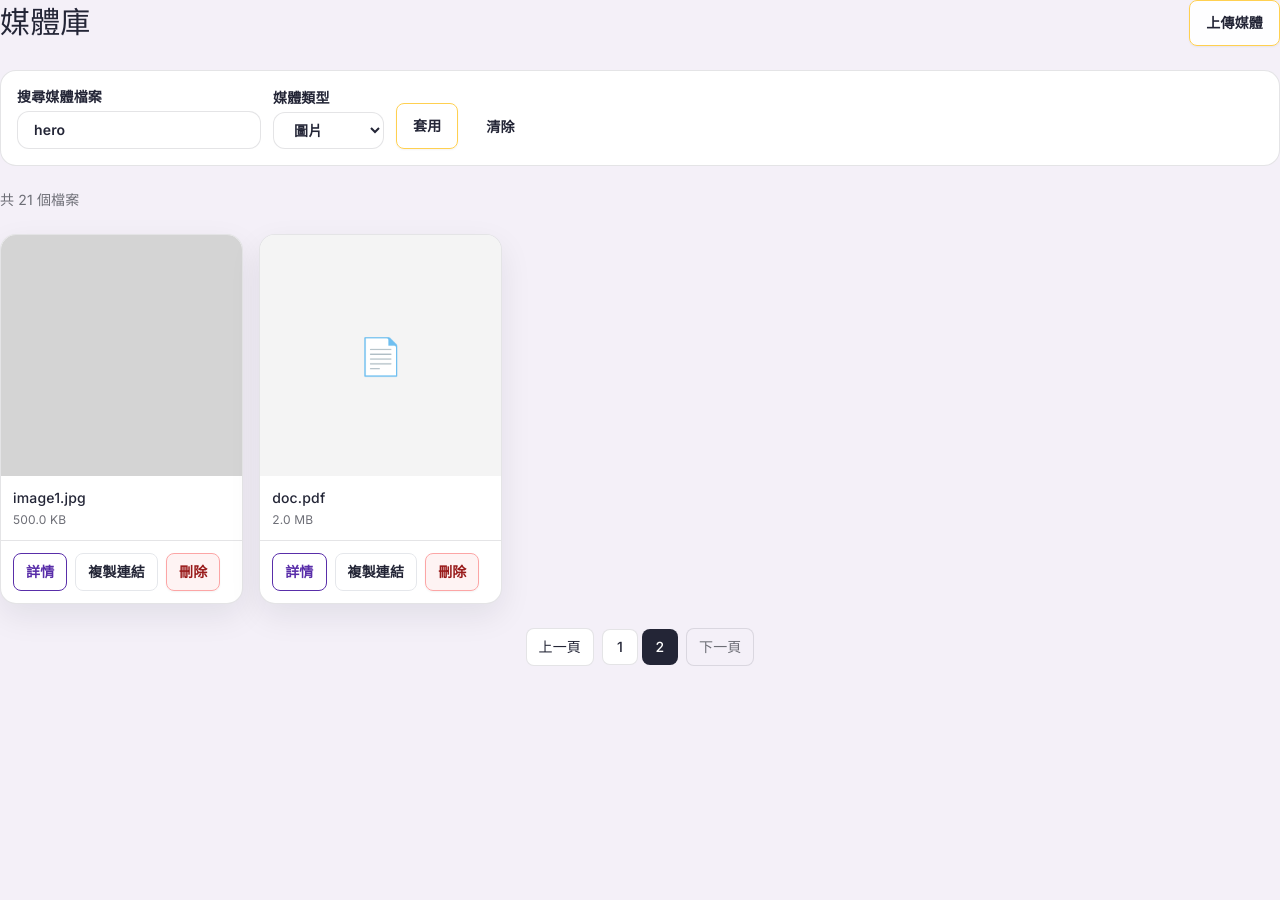
Test: MediaLibraryClient › 刪除失敗時關閉確認對話框並顯示錯誤，不遮住回饋訊息
Click the button "刪除" below "500.0 KB" at {"x": 193, "y": 572}, box [166,553,220,591]
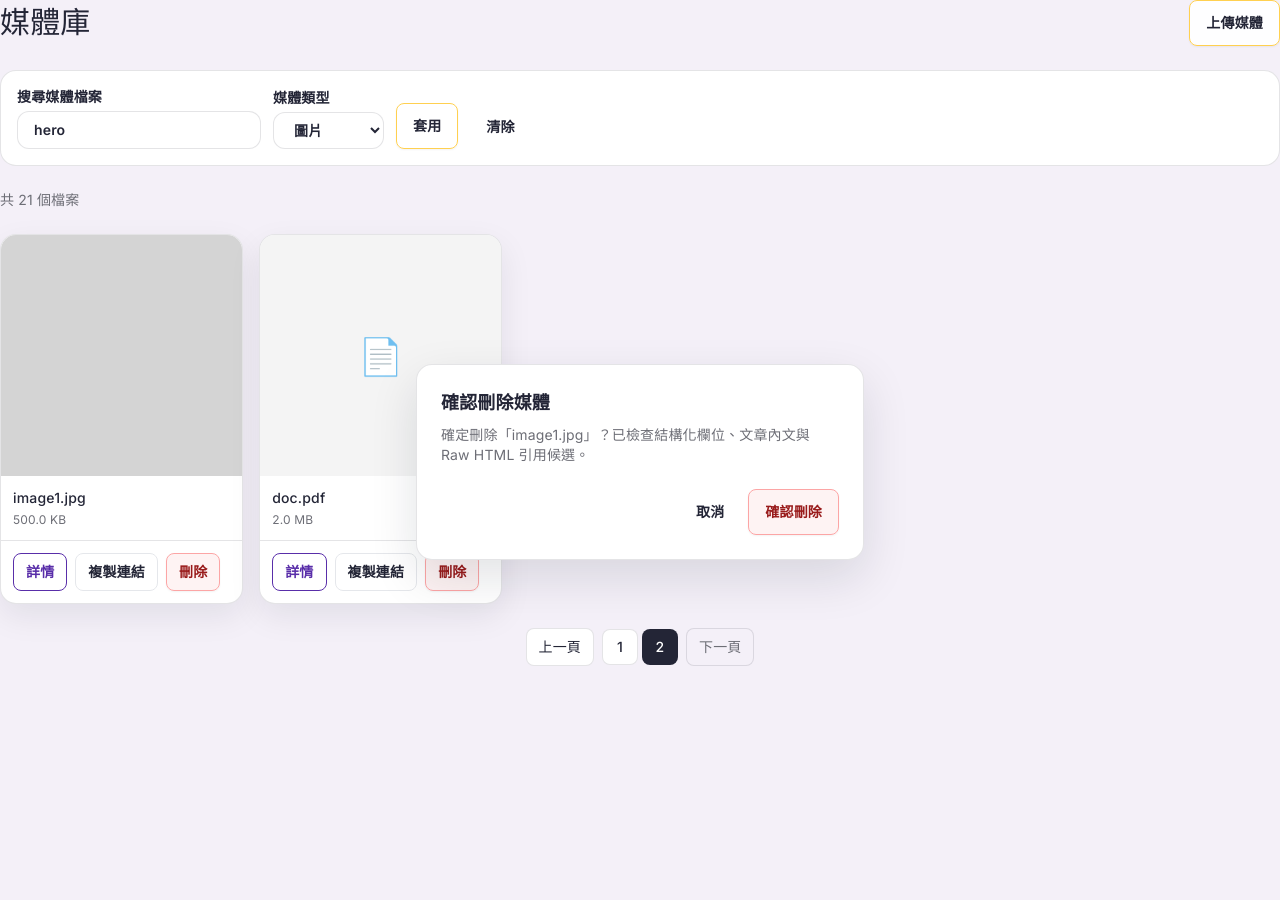
Click the button "確認刪除" at {"x": 794, "y": 512}, box [748,489,839,535]
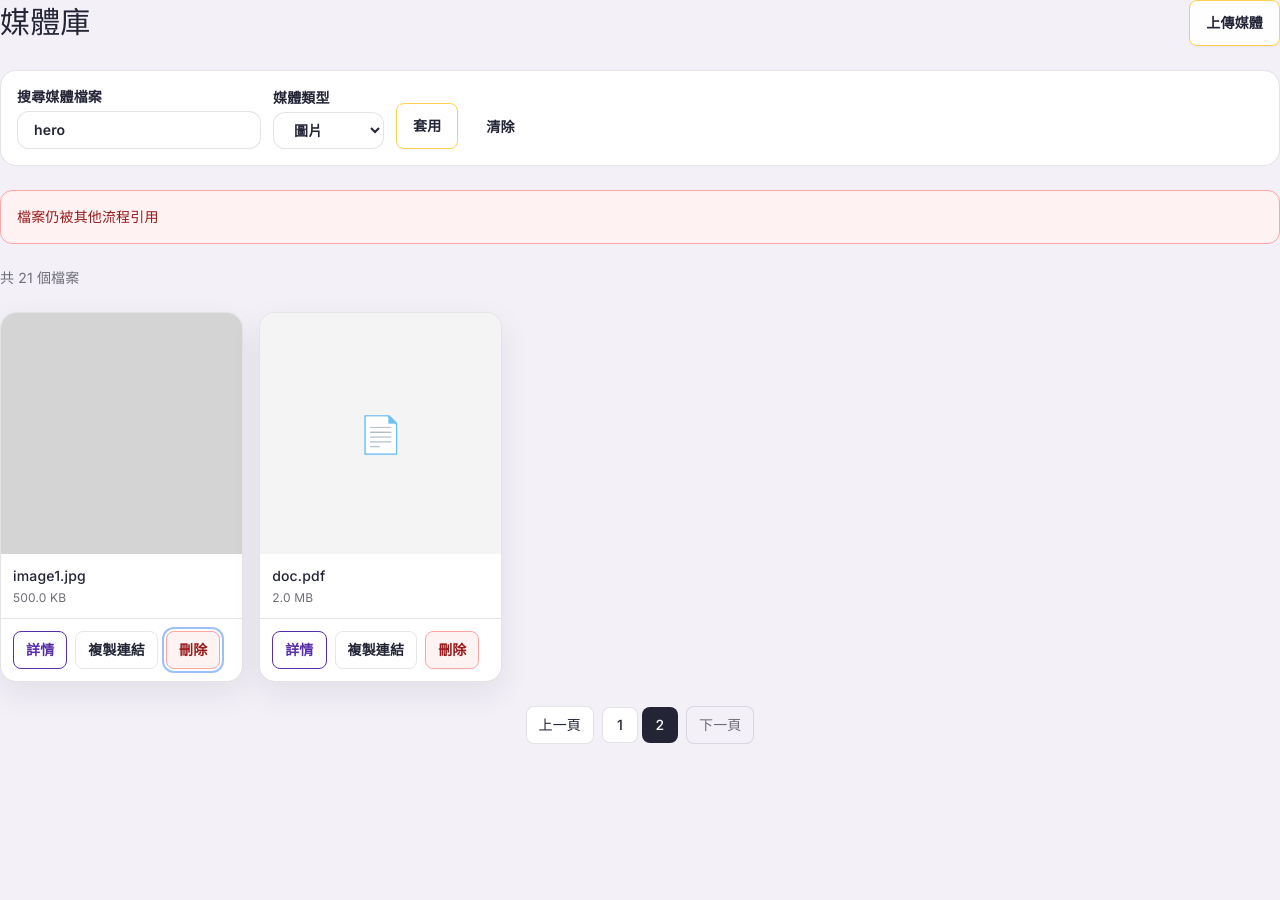
Check: the text "檔案仍被其他流程引用" is shown, box [17,208,159,225]
Check: the heading "確認刪除" is gone
